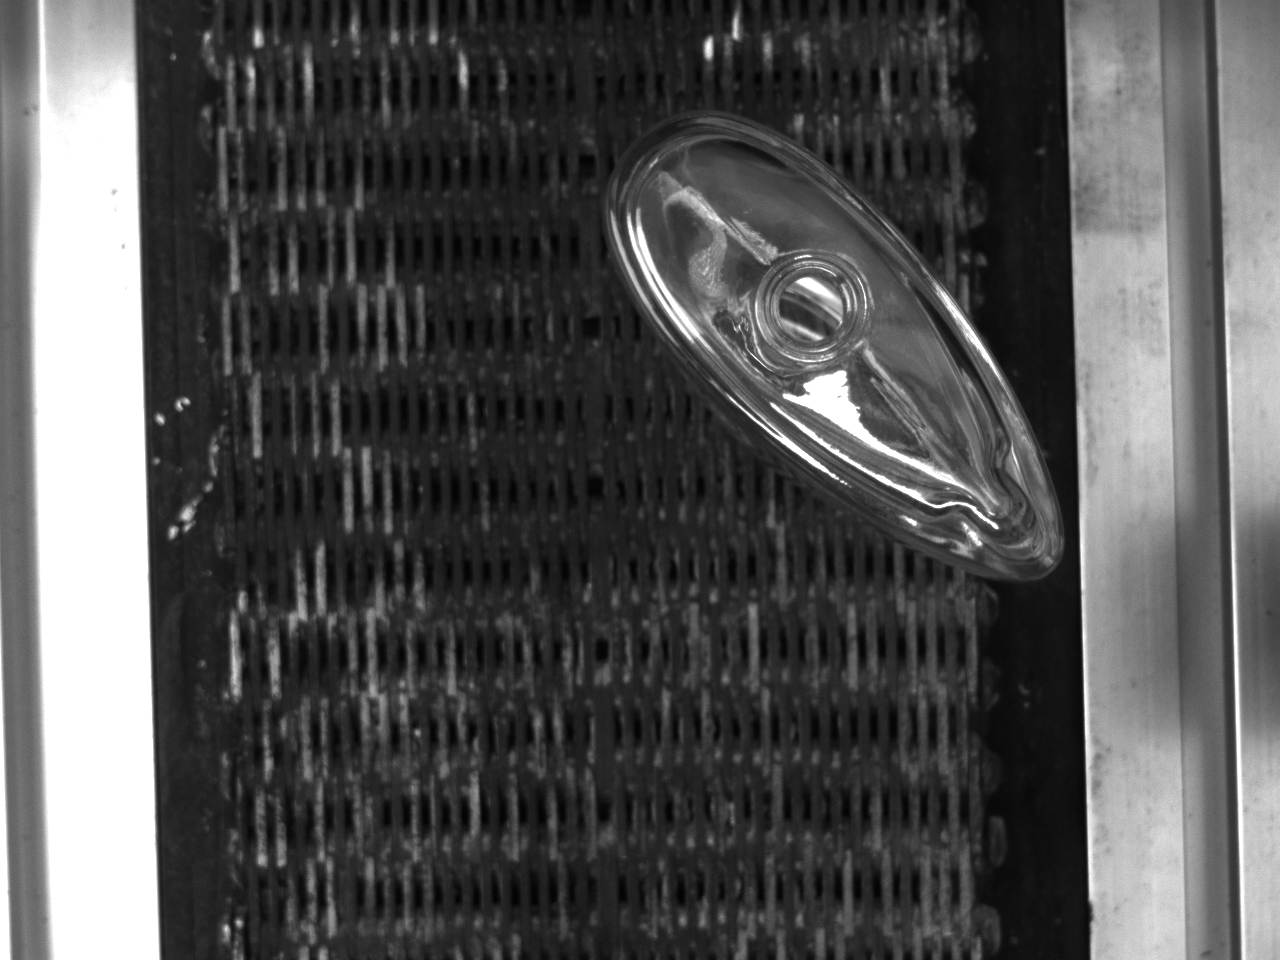bottleneck: (759, 252, 872, 361)
